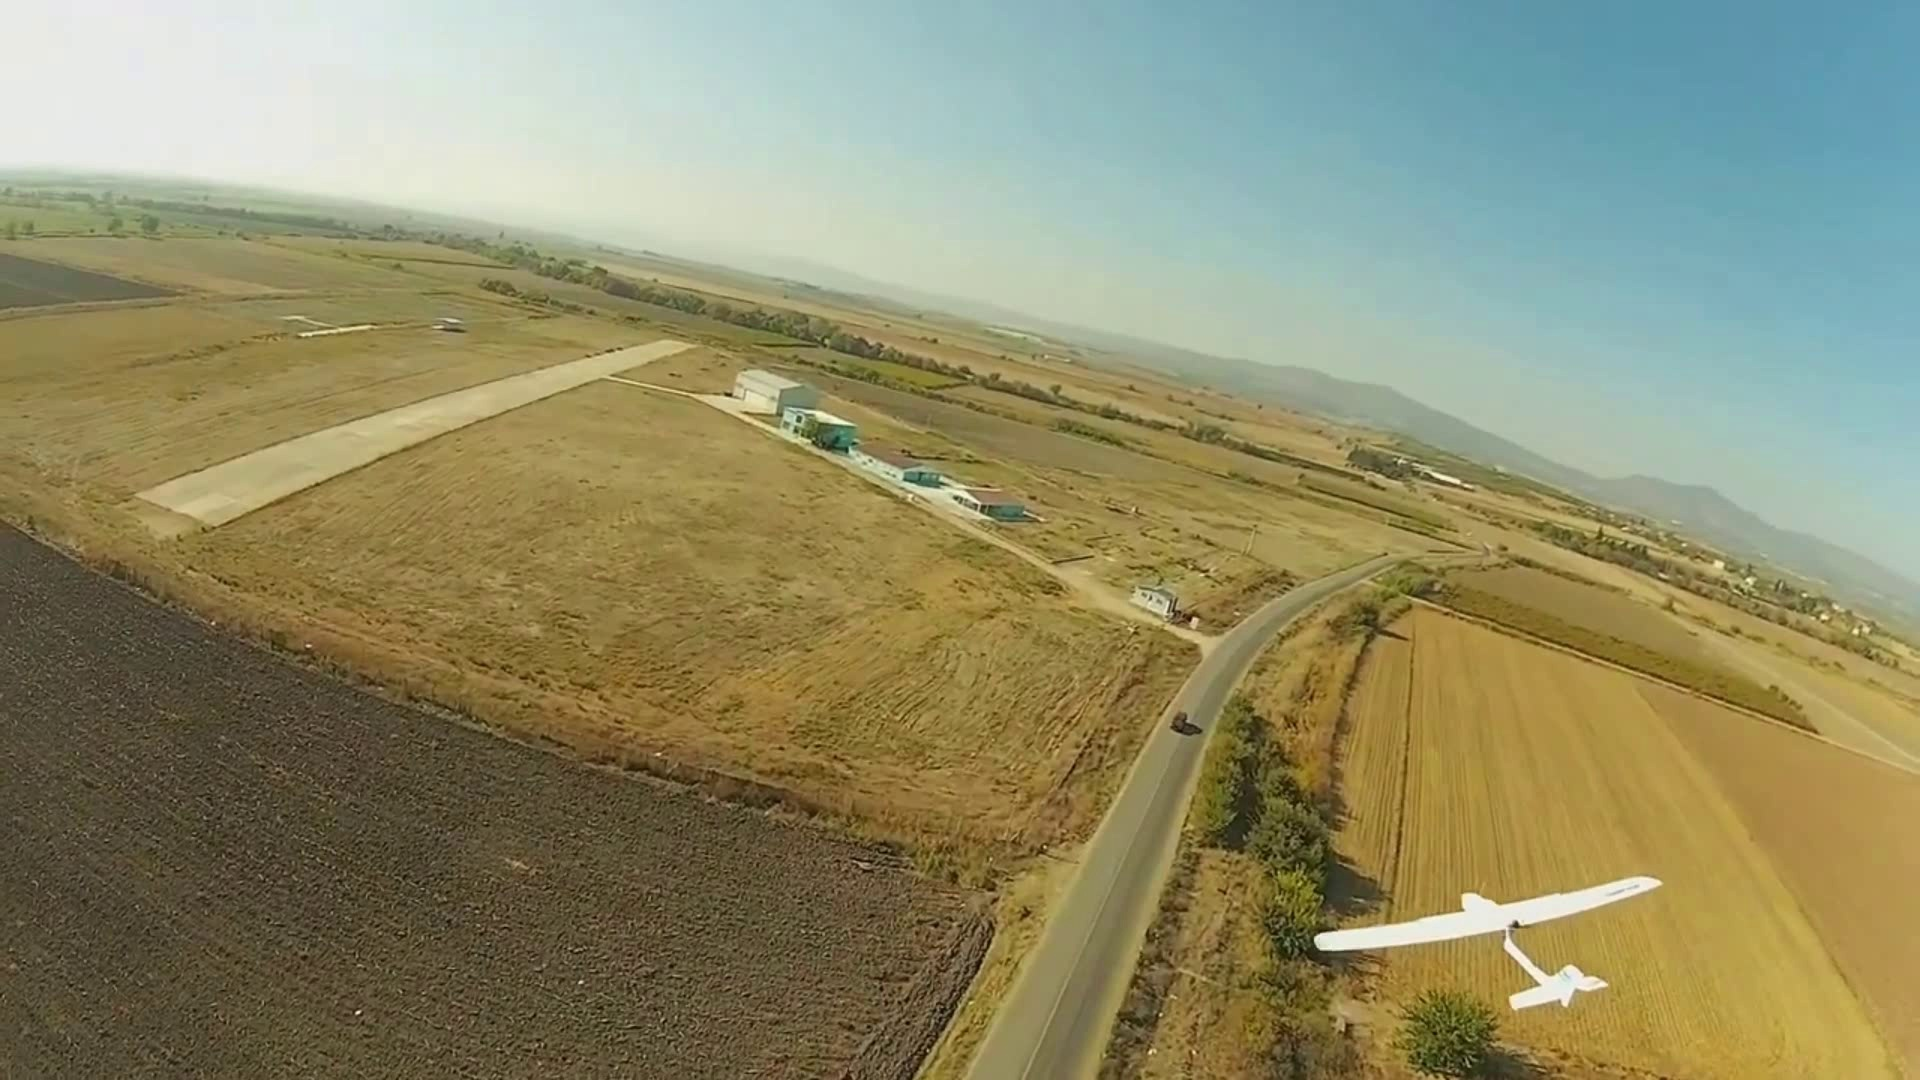airplane: (1312, 873, 1659, 1017)
